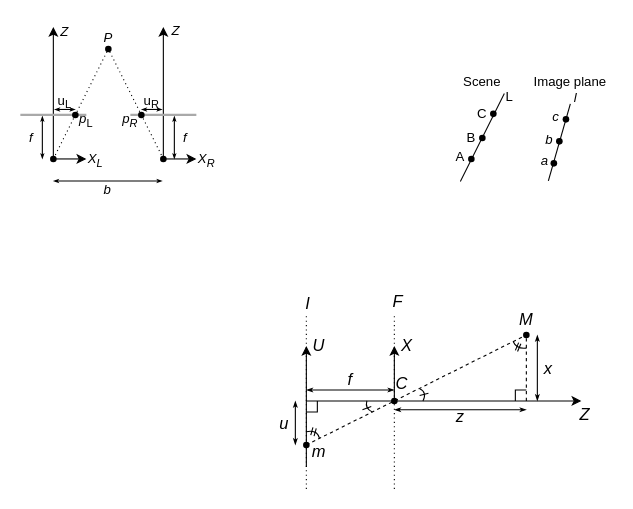
The diagram is 633 pixels wide and 509 high, and some of its shapes have lost their labels. Here are the shapes that lost their labels. From the top down, the centre of each, then its label:
the point at 52,158: O L
the point at 162,158: O R
